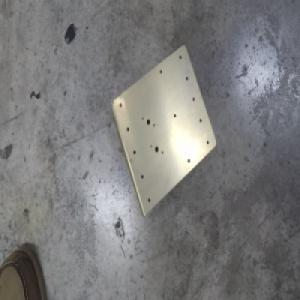MetalSheet: (108, 43, 216, 219)
